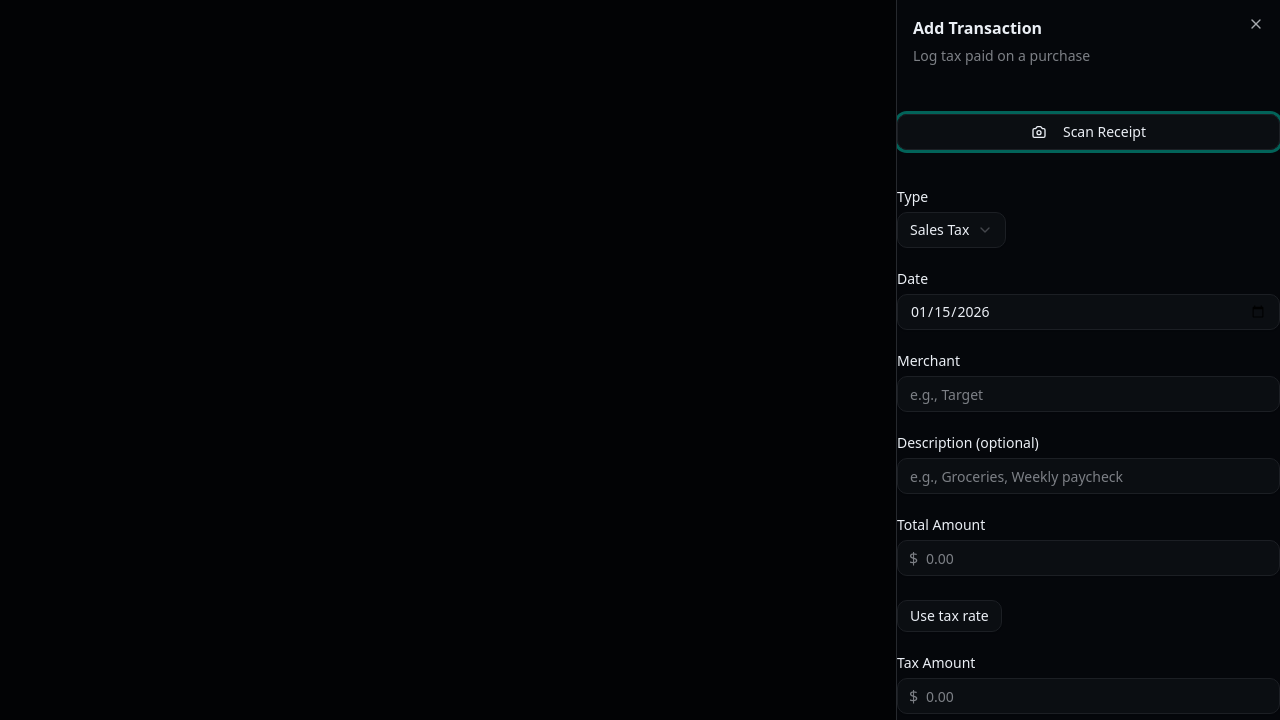
Test: TransactionForm › displays error message on submission failure
// Fill in required fields
Type "50" into the number field labelled "Total Amount" at point(1088, 558), box 897,540 -> 1279,576
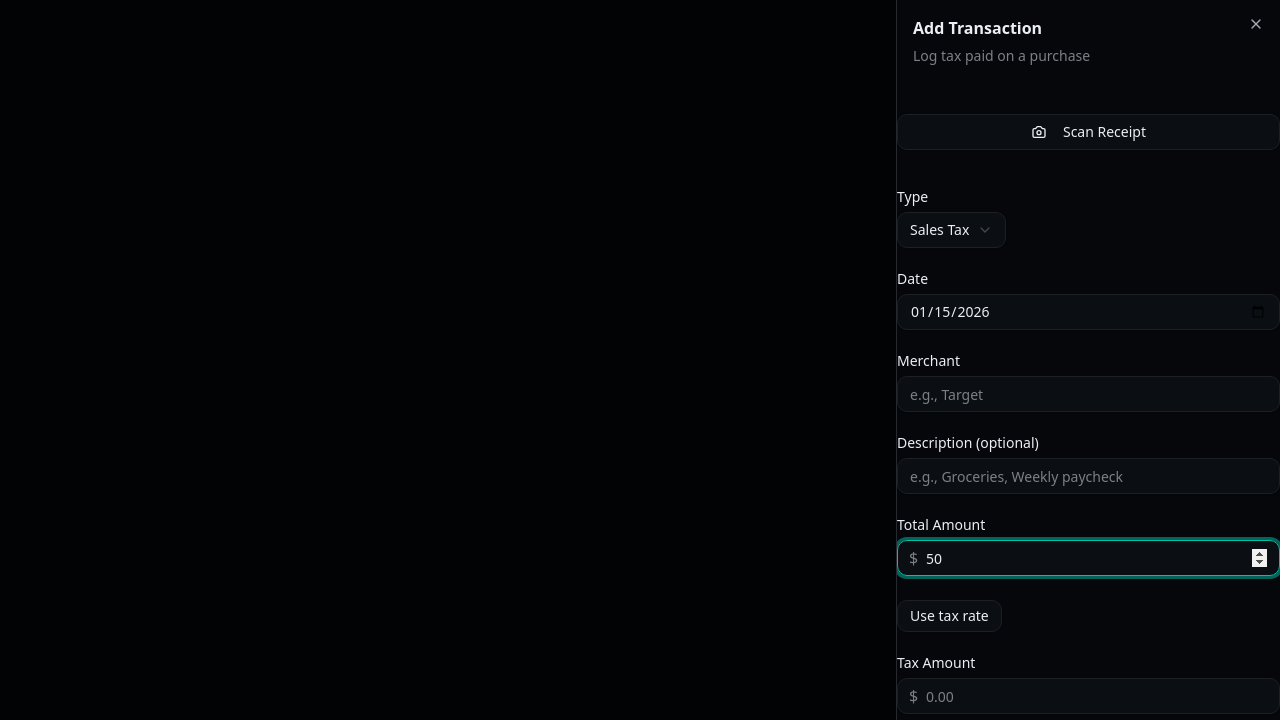
Type "4.50" into the number field labelled "Tax Amount" at point(1088, 696), box 897,678 -> 1279,714
(page scrolled)
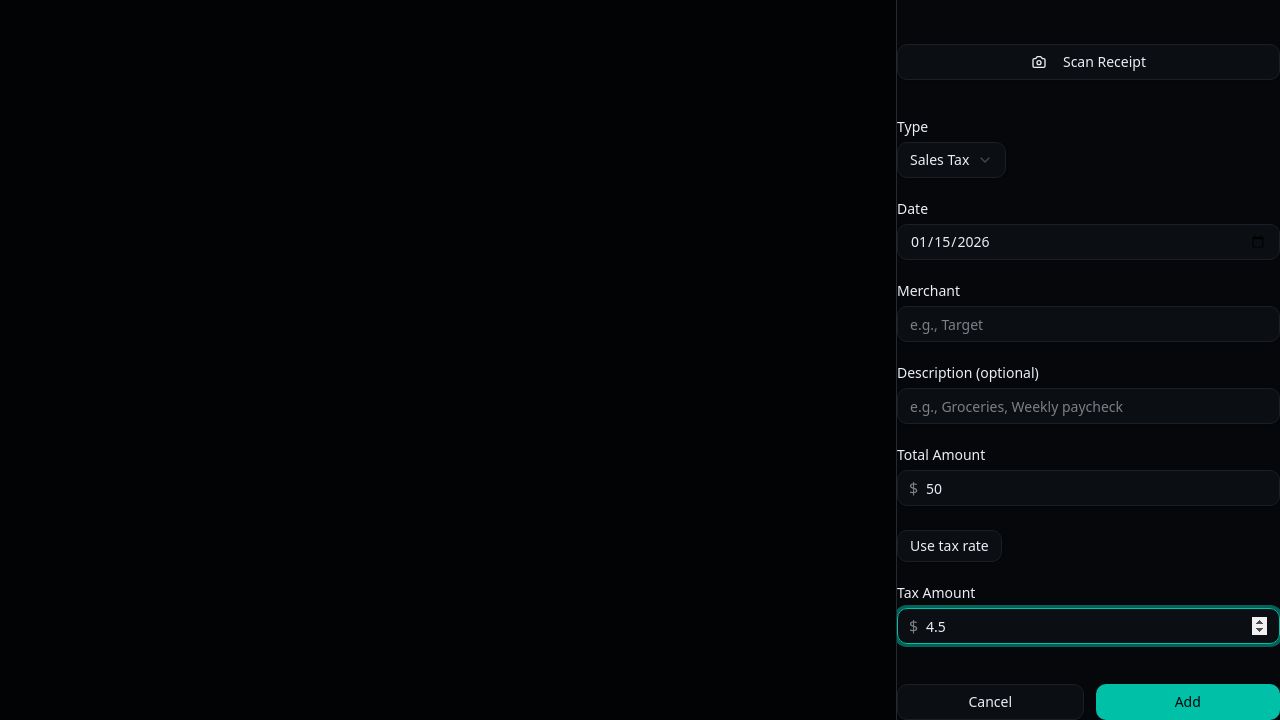
Click the button "Add" at point(1188, 702), box 1096,684 -> 1279,719
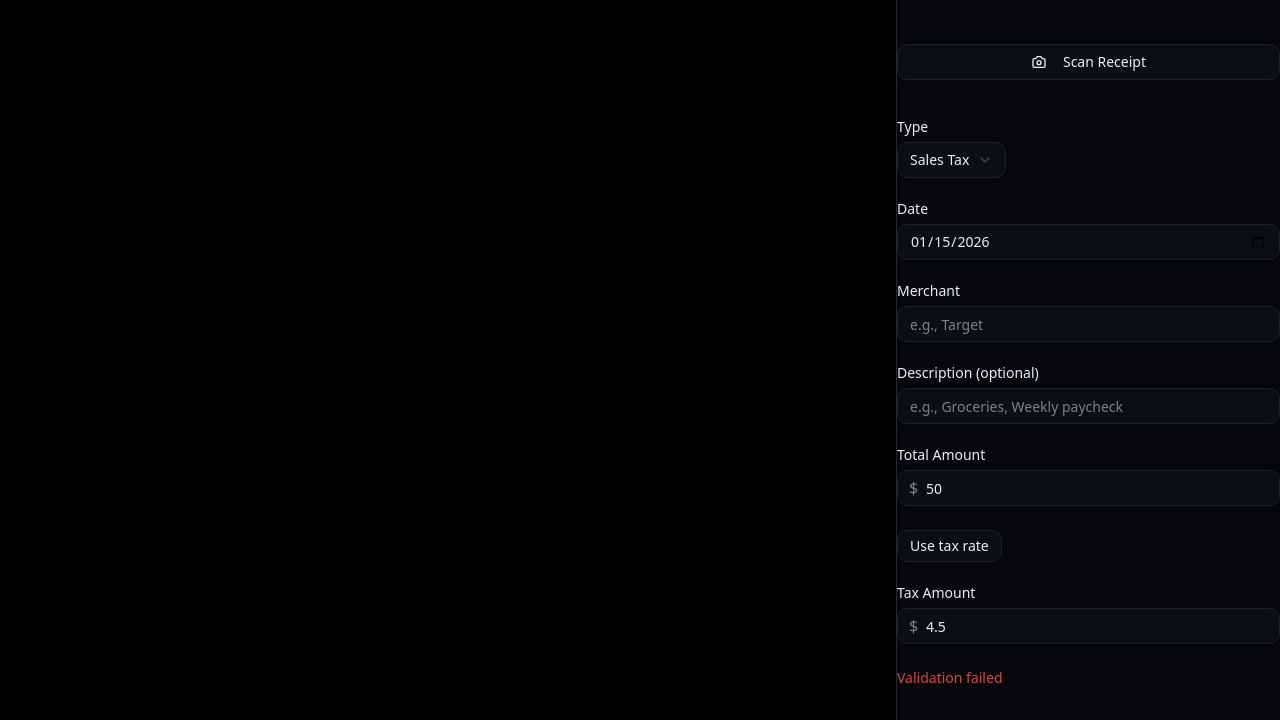
Now the message reads "Validation failed", box 897,668 -> 1002,687
